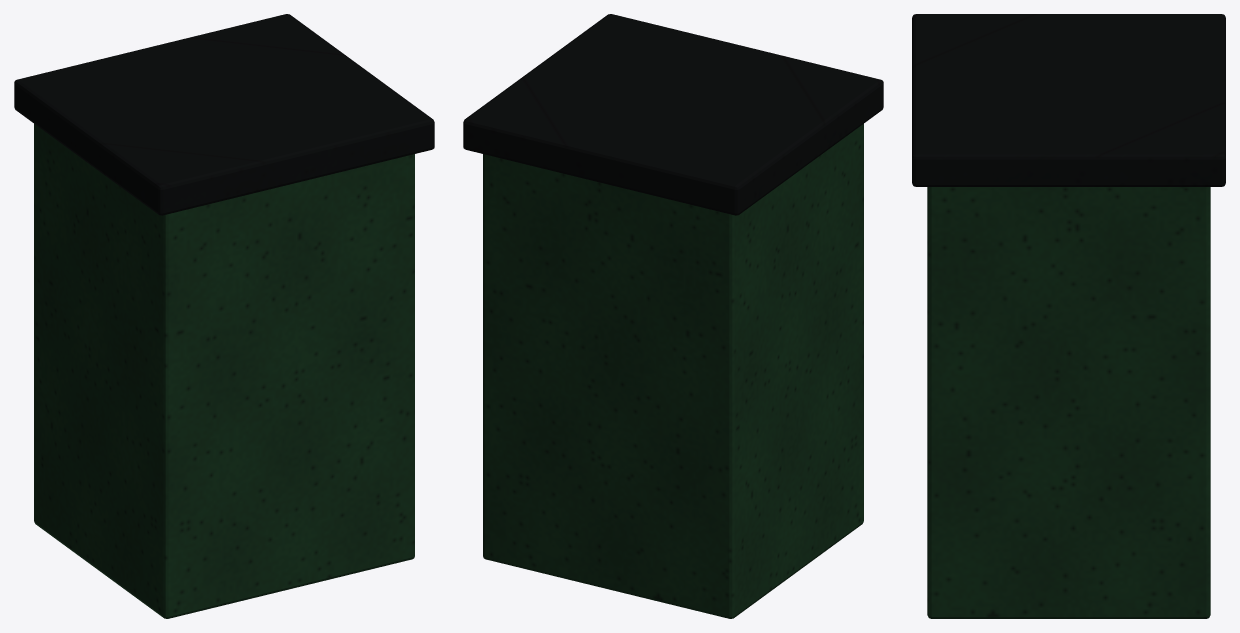
The model's file is PROP-BD48A707CE80_lod0.glb.
The picture shows the model from 3 angles, left to right: view 1: azimuth 30°, elevation 25°; view 2: azimuth 150°, elevation 25°; view 3: azimuth 270°, elevation 25°; orthographic projection. The views are drawn at different scales.
Parts seen in each view (by area): view 1: waste_container, bin_lid; view 2: waste_container, bin_lid; view 3: waste_container, bin_lid.
Boxes of the visible parts, x1,y1,x2,y2 form: waste_container: (34,124,414,618); bin_lid: (14,14,434,215); waste_container: (483,124,863,618); bin_lid: (463,14,883,215); waste_container: (927,187,1210,618); bin_lid: (912,14,1225,186).
Bounding box in the file's own units: 0.66 × 1.01 × 0.61.
3 materials, 3 textured.
